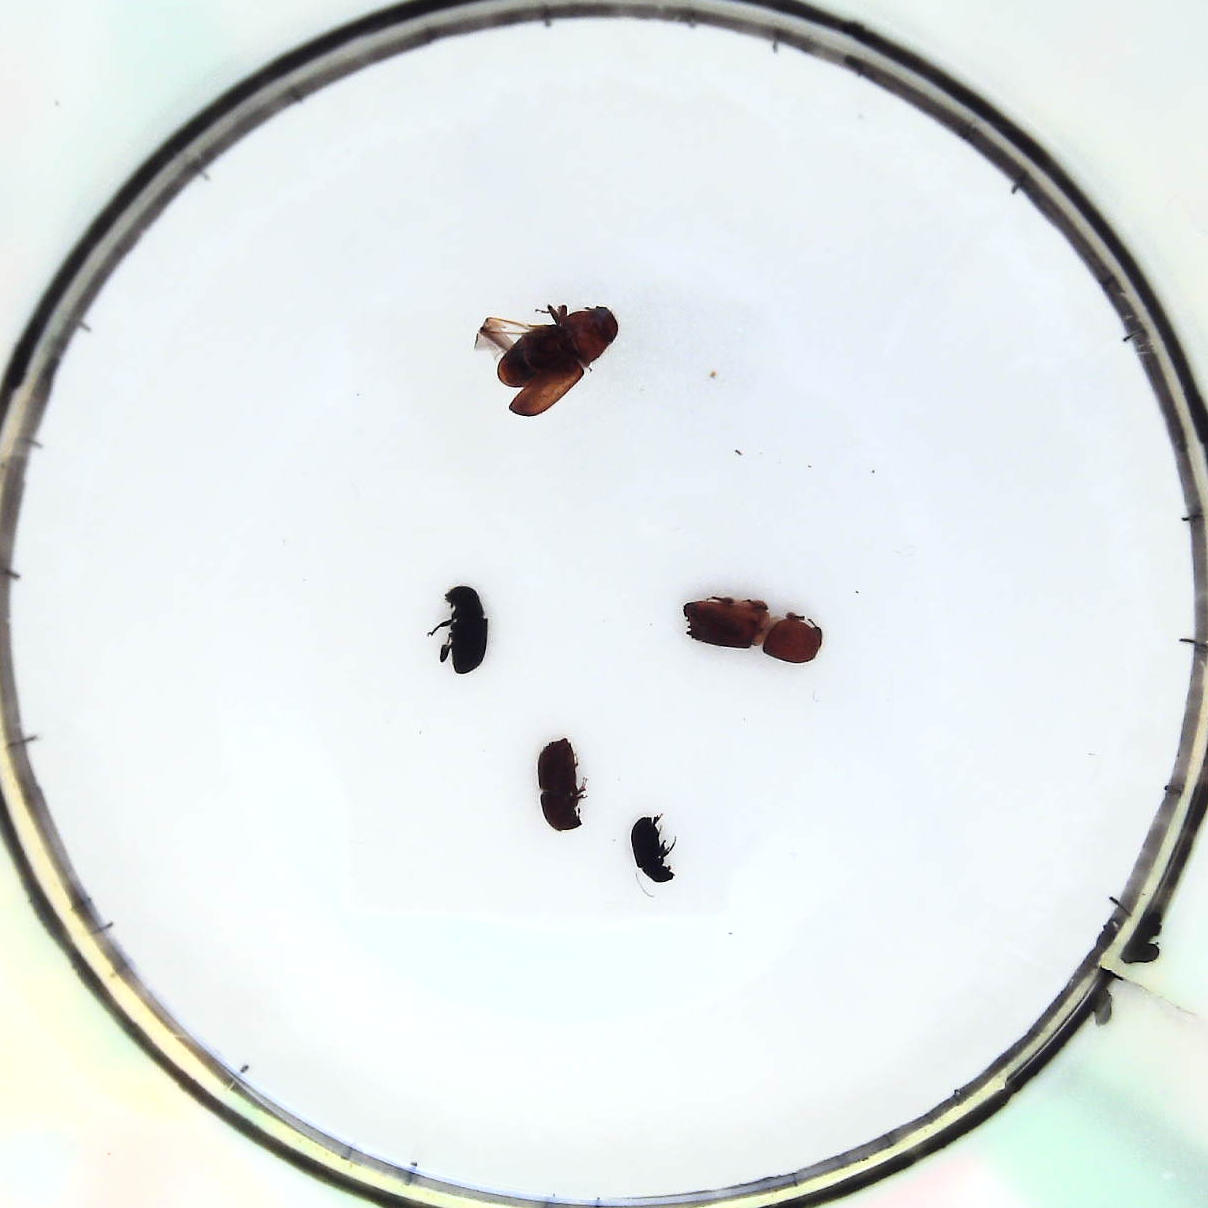Boerner: (688, 589, 820, 666)
Leconte: (473, 305, 622, 412)
Linnaeus: (537, 741, 586, 839)
armandi: (433, 583, 488, 680)
coleoptera: (631, 814, 681, 888)
